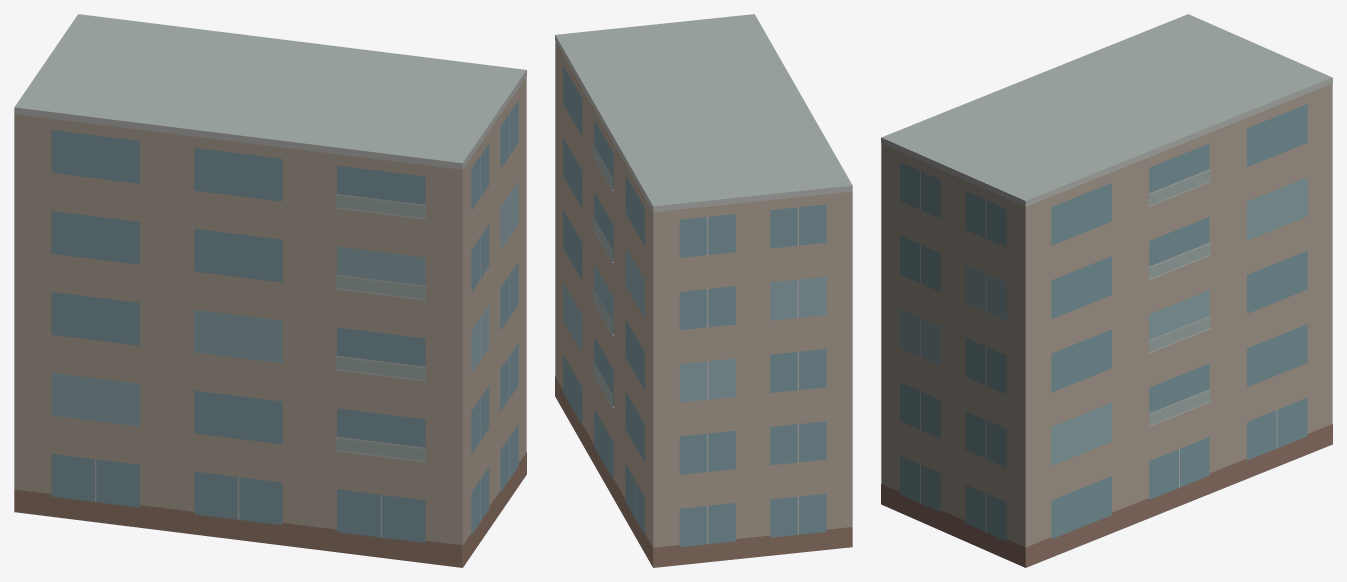
Rendered from survey-upis-32563203.glb.
3 renders of one model, left to right at view 1: azimuth 30°, elevation 25°; view 2: azimuth 150°, elevation 25°; view 3: azimuth 270°, elevation 25°, orthographic. The views are drawn at different scales.
Visible parts, largest first — view 1: survey-upis-32563203.tmp; view 2: survey-upis-32563203.tmp; view 3: survey-upis-32563203.tmp.
Boxes of the visible parts, bbox=[...] form: survey-upis-32563203.tmp: bbox=[14, 14, 526, 567]; survey-upis-32563203.tmp: bbox=[555, 14, 852, 567]; survey-upis-32563203.tmp: bbox=[881, 14, 1332, 567].
Bounding box in the file's own units: 16.46 × 15.05 × 16.8.
